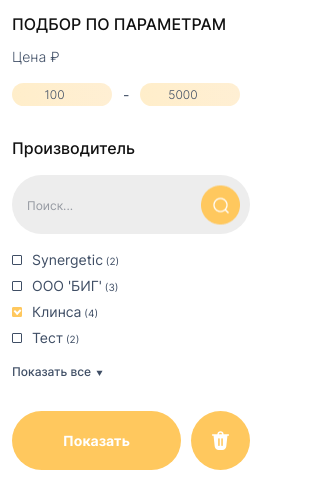
Parameters.test › Test click on button "remove"
This screenshot has width=332, height=487.
expect the 1st number field holds "100": met, box [12, 83, 112, 106]
expect the 2nd number field holds "5000": met, box [140, 83, 240, 106]
Step 1. Click the button with alt text "remove" → [220, 440], box [191, 411, 250, 470]
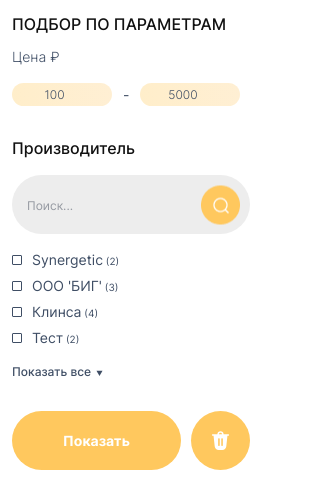
expect the checkbox showing "Клинса" is not checked: met, box [12, 303, 98, 320]
